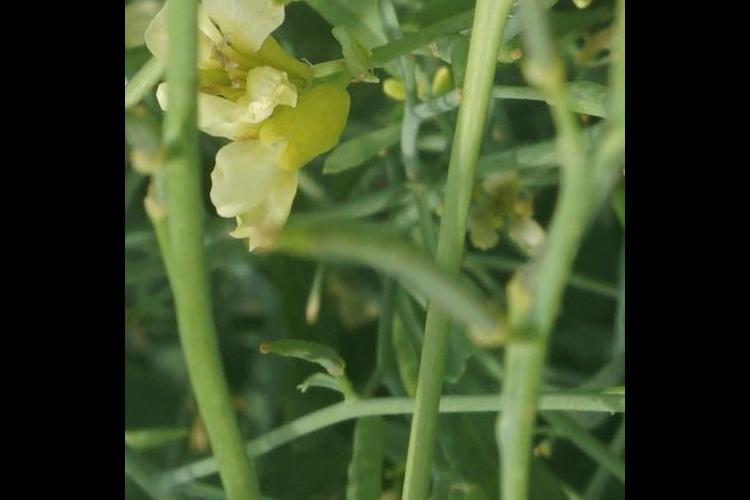pod: (326, 390, 407, 500), (246, 304, 361, 371)
white: (139, 1, 337, 240)
